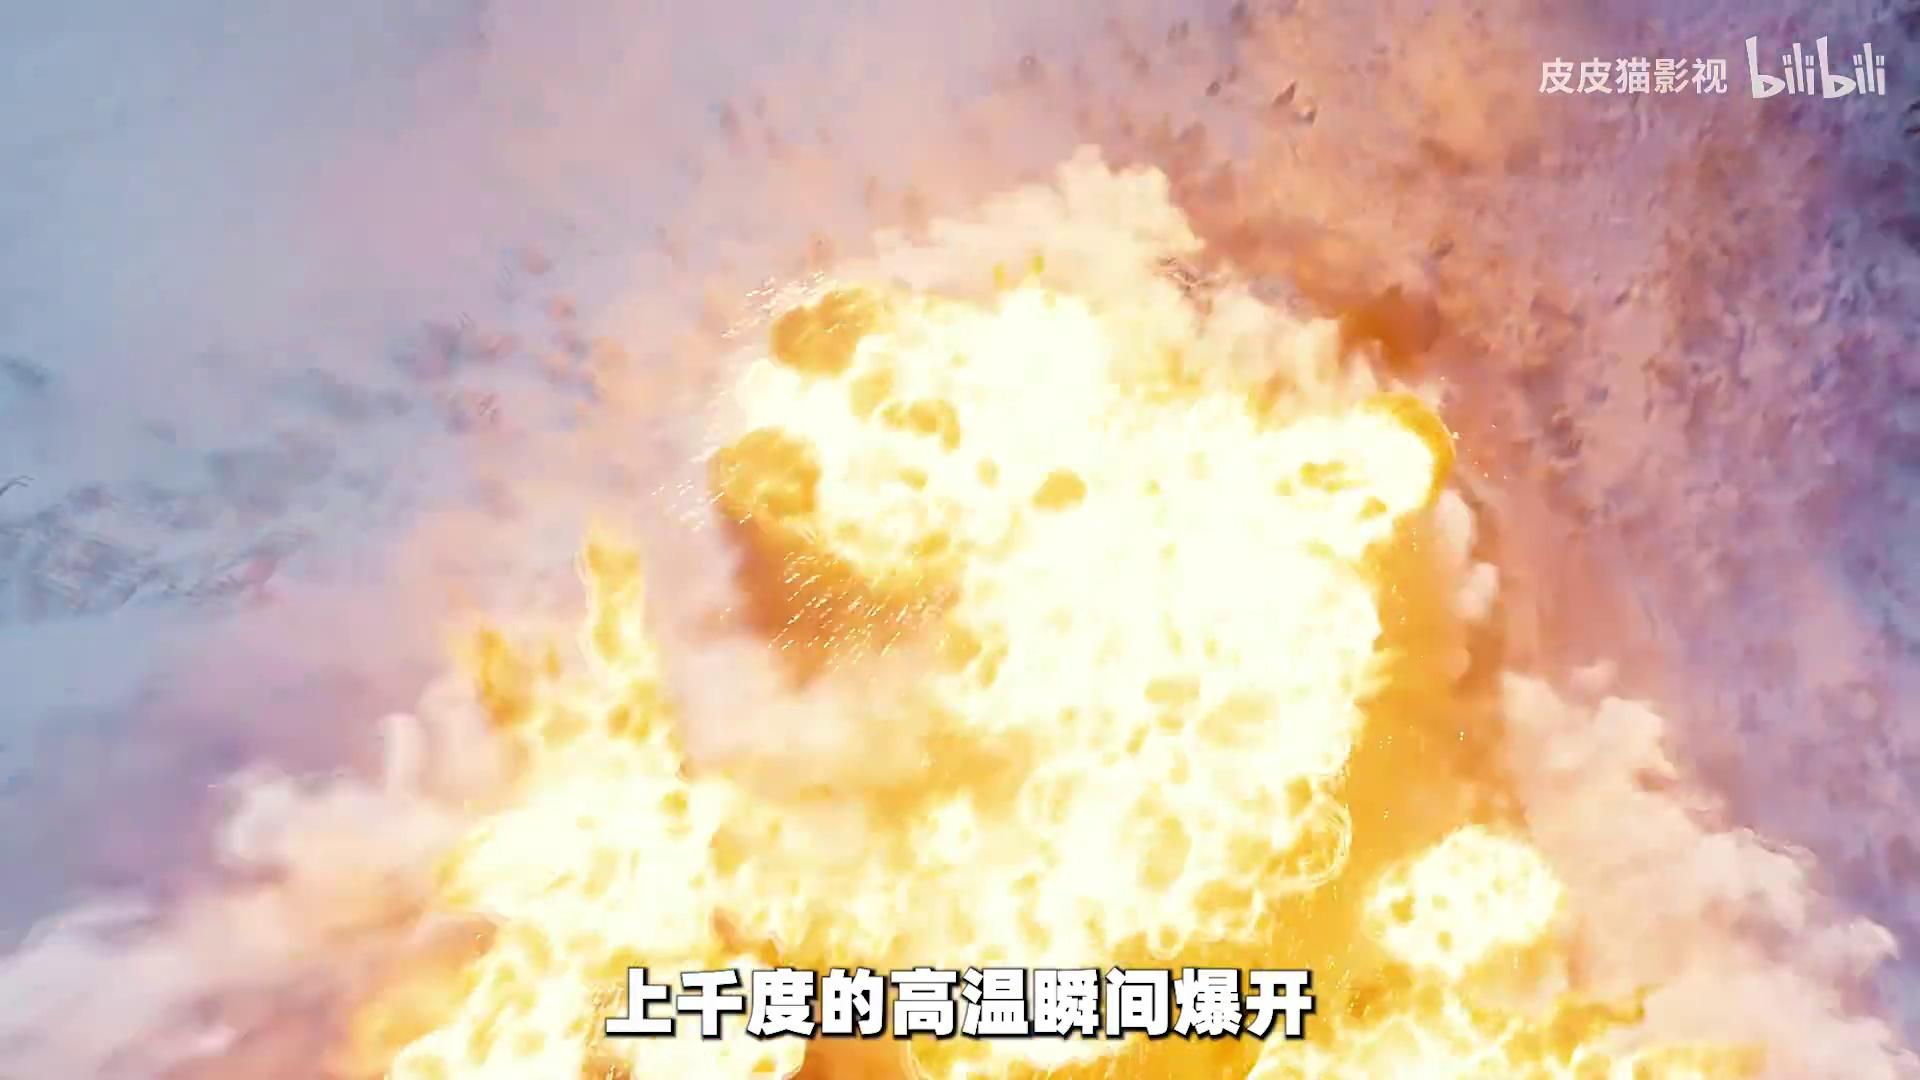fire: (315, 144, 1892, 1079)
